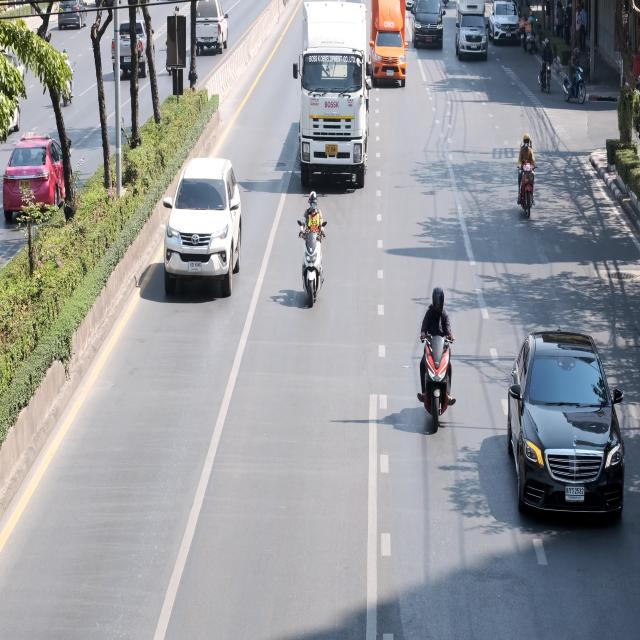cars: (502, 322, 631, 561), (159, 150, 249, 318), (296, 0, 370, 200), (3, 129, 83, 238), (364, 0, 411, 100), (110, 12, 164, 94), (447, 0, 497, 75), (185, 0, 236, 60), (484, 0, 522, 56), (411, 0, 447, 58), (48, 0, 92, 41), (0, 76, 26, 142)
motorcycle: (408, 280, 464, 446), (288, 185, 340, 313), (501, 113, 545, 239), (564, 44, 590, 122), (540, 34, 556, 106), (162, 32, 176, 82)
